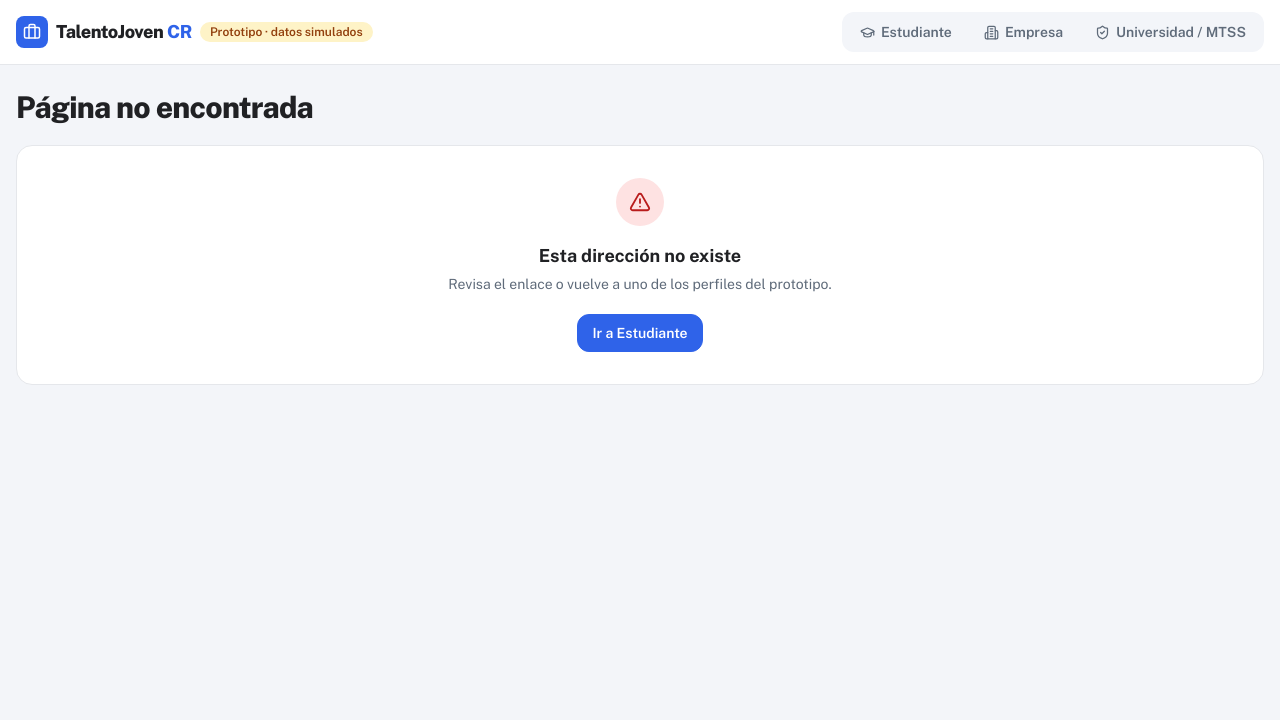
Scenario: rutas › una ruta desconocida muestra la página 404 con salida
Expected: the heading "Página no encontrada" is shown, x1=16 y1=89 x2=313 y2=125
Click the link "Ir a Estudiante": (640, 333) x1=577 y1=314 x2=703 y2=352
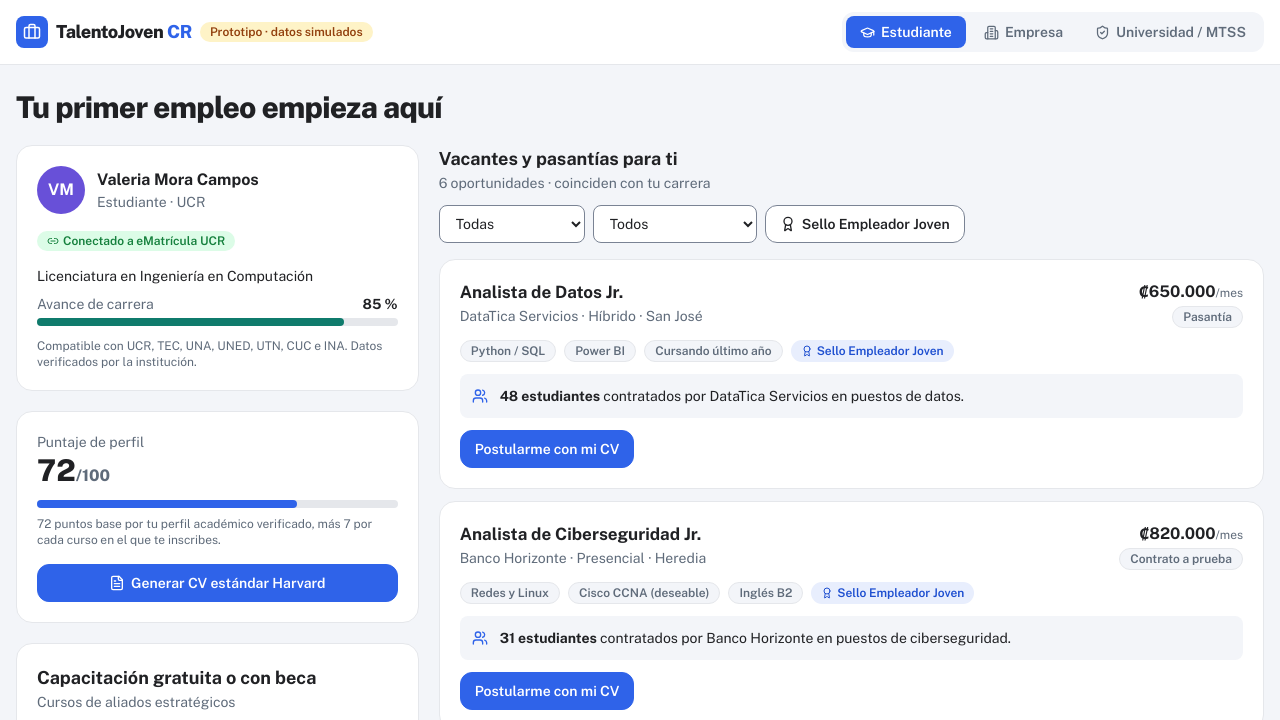
Expected: the heading "Tu primer empleo empieza aquí" is shown, x1=16 y1=89 x2=442 y2=125
